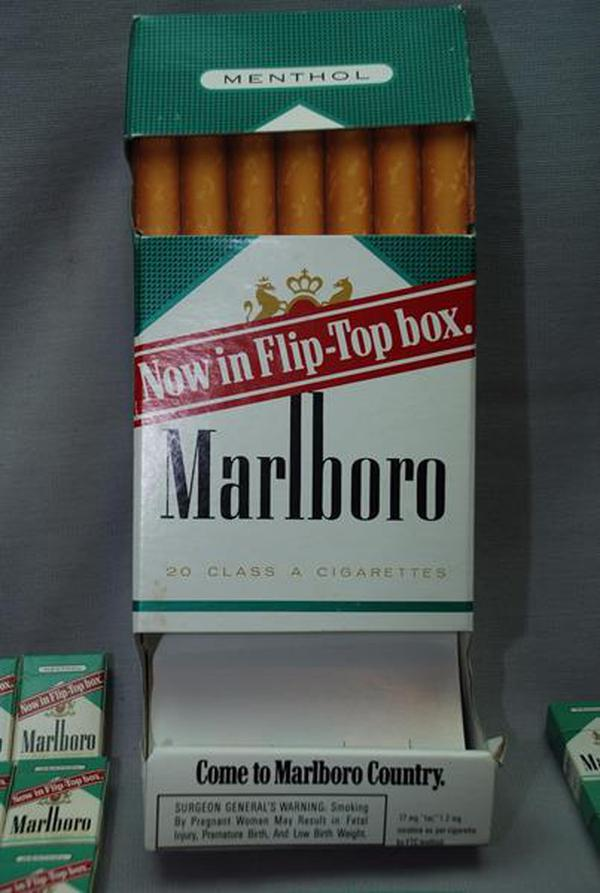marlboro_mentol: (136, 20, 469, 628), (14, 660, 106, 758), (9, 760, 101, 845), (564, 705, 600, 776)
